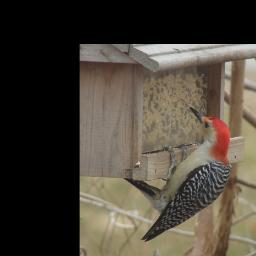Woodpecker: (131, 106, 236, 237)
